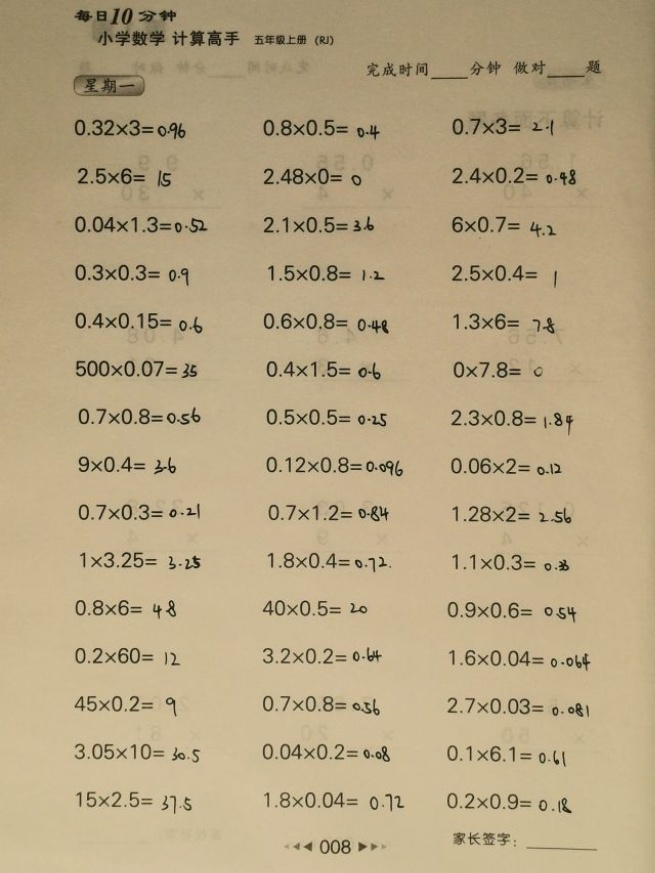equation: (441, 788, 575, 820), (443, 693, 593, 719), (444, 645, 593, 671), (260, 787, 407, 813), (70, 307, 205, 335), (261, 452, 406, 478), (446, 404, 576, 433), (259, 308, 392, 335), (442, 597, 580, 623), (71, 212, 212, 237), (70, 739, 203, 765), (263, 548, 395, 574), (448, 162, 579, 188), (71, 787, 197, 814), (258, 739, 393, 764), (258, 115, 383, 142), (70, 260, 193, 287), (76, 547, 203, 573), (74, 404, 205, 429), (258, 691, 383, 717), (74, 500, 204, 525), (263, 500, 392, 525), (261, 404, 390, 429), (71, 356, 200, 381), (261, 356, 384, 382), (442, 742, 569, 767), (448, 259, 561, 287), (448, 501, 574, 526), (264, 261, 389, 286), (69, 116, 189, 142), (449, 550, 573, 575), (446, 211, 560, 238), (260, 644, 385, 668), (445, 453, 564, 478), (70, 691, 180, 718), (71, 596, 181, 623), (449, 308, 559, 335), (448, 113, 558, 140), (260, 213, 379, 237), (70, 643, 183, 668), (259, 596, 372, 621), (73, 451, 179, 477), (259, 163, 365, 189), (73, 163, 175, 189), (449, 358, 548, 382)
